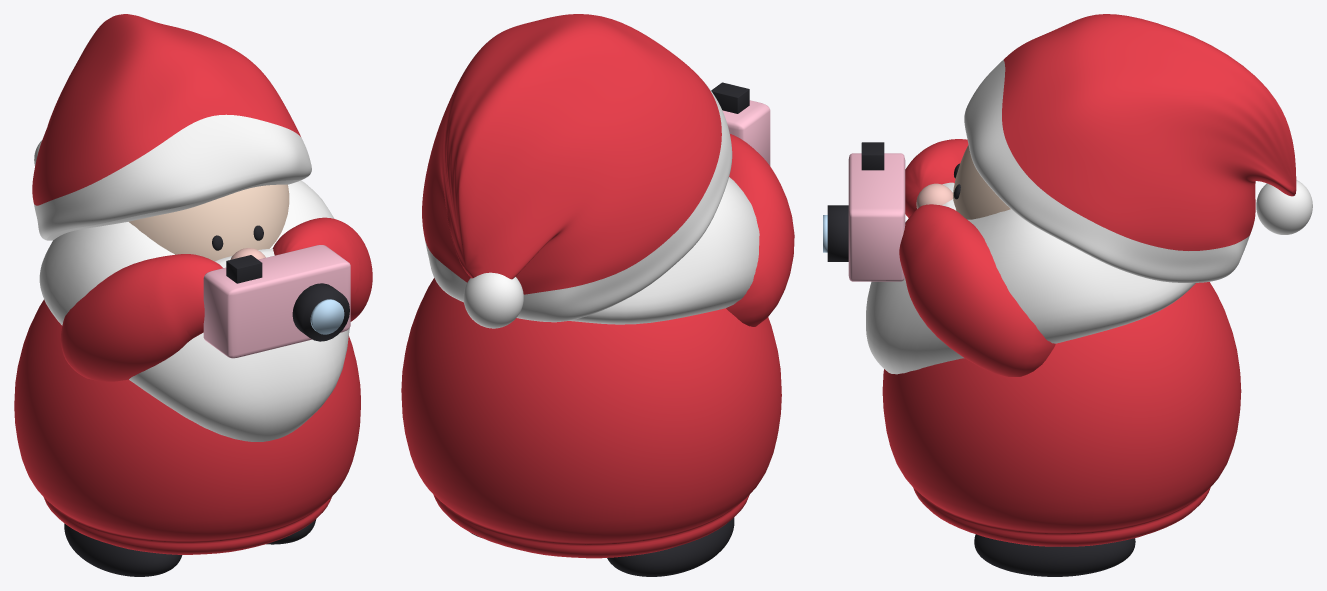
The model's file is camera.glb.
The picture shows the model from 3 angles, left to right: view 1: azimuth 30°, elevation 25°; view 2: azimuth 150°, elevation 25°; view 3: azimuth 270°, elevation 25°; orthographic projection. The views are drawn at different scales.
Parts seen in each view (by area): view 1: camera_red, camera_white, camera_pink, camera_skin, camera_black, camera_sky; view 2: camera_red, camera_white, camera_black, camera_pink; view 3: camera_red, camera_white, camera_pink, camera_black, camera_skin, camera_nose.
Part boxes in pixels (left/top/right/bottom): camera_red: left=14, top=14, right=372, bottom=554; camera_white: left=34, top=114, right=349, bottom=441; camera_pink: left=203, top=245, right=350, bottom=358; camera_skin: left=128, top=184, right=289, bottom=261; camera_black: left=64, top=225, right=349, bottom=576; camera_sky: left=310, top=299, right=344, bottom=334; camera_red: left=401, top=14, right=794, bottom=558; camera_white: left=424, top=80, right=759, bottom=328; camera_black: left=470, top=82, right=749, bottom=576; camera_pink: left=722, top=100, right=770, bottom=165; camera_red: left=882, top=14, right=1296, bottom=546; camera_white: left=866, top=60, right=1312, bottom=374; camera_pink: left=848, top=153, right=905, bottom=281; camera_black: left=827, top=142, right=1135, bottom=576; camera_skin: left=953, top=145, right=1010, bottom=219; camera_nose: left=916, top=183, right=952, bottom=208.
Bounding box in the file's own units: 1.9 × 2.96 × 2.59.
